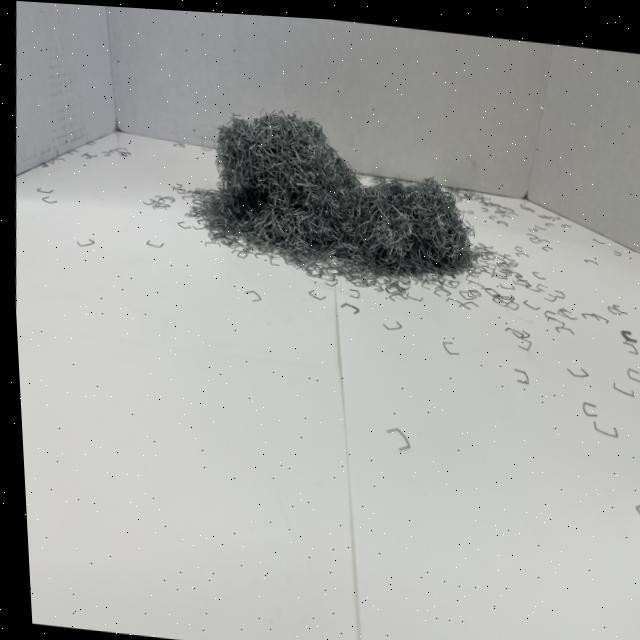staples: (184, 98, 485, 286)
